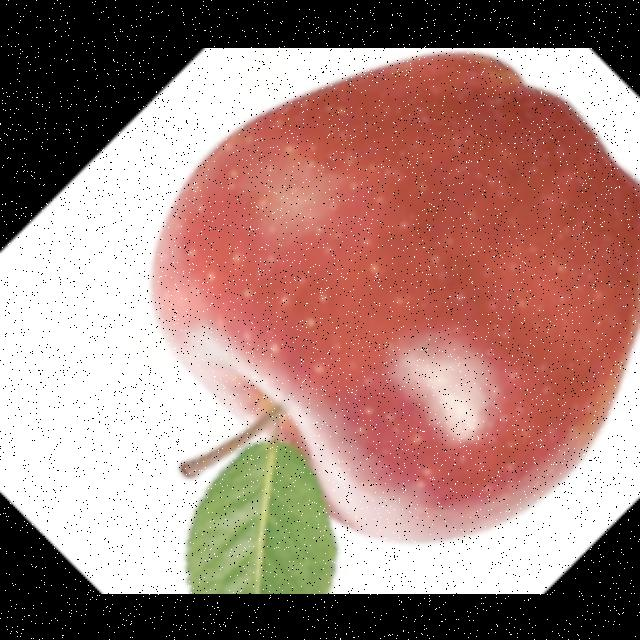Apel Segar: (146, 49, 640, 544)
